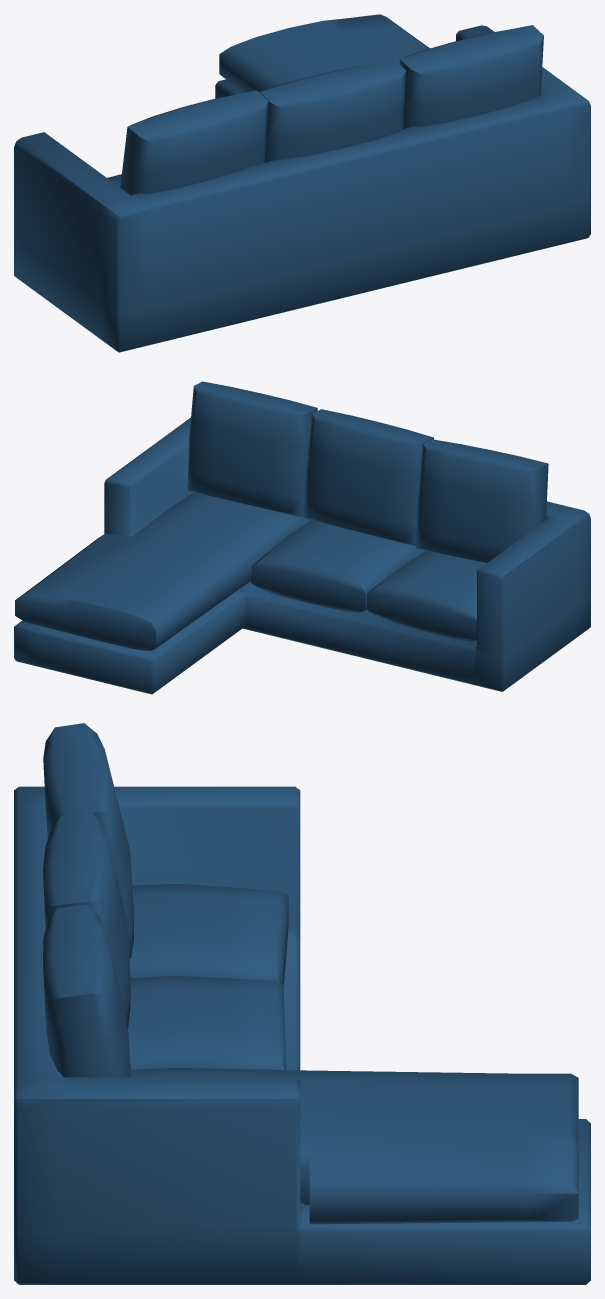
The model's file is couch.glb.
3 views of the same model, one above another, from view 1: azimuth 30°, elevation 25°; view 2: azimuth 150°, elevation 25°; view 3: azimuth 270°, elevation 25° (orthographic). The views are drawn at different scales.
Parts seen in each view (by area): view 1: Couch_L; view 2: Couch_L; view 3: Couch_L.
Boxes of the visible parts, x1,y1,x2,y2 form: Couch_L: (14,14,590,352); Couch_L: (14,381,590,694); Couch_L: (14,723,590,1284).
Size of the model in its own units: 5.61 by 2.26 by 4.33.
